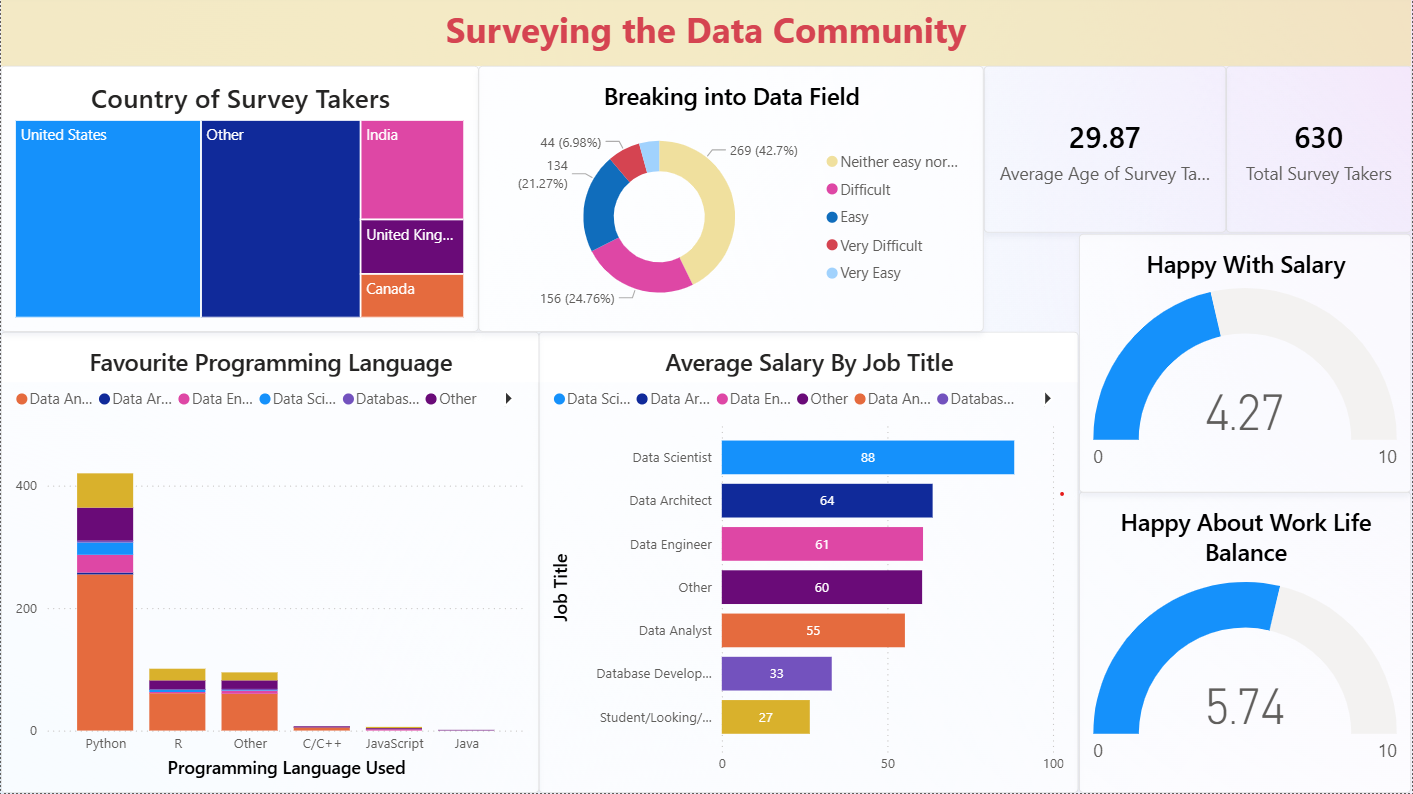

The page's visual inventory and layout, read from the dashboard file:
{"tool":"powerbi","page":{"name":"Page 1","canvas":[1280,720],"ordinal":0},"visuals":[{"type":"textbox","box":[0,0,1280,60],"z":0},{"type":"card","fields":{"Values":["Count(Data Professional Survey.Unique ID)"]},"box":[1111.4,60,168.6,151.4],"z":1000},{"type":"card","fields":{"Values":["Avg(Data Professional Survey.Age)"]},"box":[891.7,60,220,151.7],"z":2000},{"type":"barChart","title":"Average Salary By Job Title","fields":{"Category":["Data Professional Survey.Current Role"],"Y":["Avg(Data Professional Survey.Average Salary)"],"Series":["Data Professional Survey.Current Role"]},"box":[488.6,301.4,490,418.6],"z":3000},{"type":"columnChart","title":"Favourite Programming Language","fields":{"Category":["Data Professional Survey.Favourite Programming Langauge.1"],"Y":["CountNonNull(Data Professional Survey.Unique ID)"],"Series":["Data Professional Survey.Current Role"]},"box":[0,301.4,488.6,418.6],"z":4000},{"type":"treemap","title":"Country of Survey Takers","fields":{"Group":["Data Professional Survey.Country.1"],"Values":["CountNonNull(Data Professional Survey.Country.1)"]},"box":[0,60,433.3,241.7],"z":5000},{"type":"gauge","title":"Happy About Work Life Balance","fields":{"Y":["Avg(Data Professional Survey.Q6 - How Happy are you in your Current Position with the following? (Work/Life Balance))"],"MinValue":["Min(Data Professional Survey.Q6 - How Happy are you in your Current Position with the following? (Work/Life Balance))"],"MaxValue":["Max(Data Professional Survey.Q6 - How Happy are you in your Current Position with the following? (Work/Life Balance))"],"TargetValue":["Sum(Data Professional Survey.Q6 - How Happy are you in your Current Position with the following? (Work/Life Balance))"]},"box":[978.3,446.7,301.7,273.3],"z":6000},{"type":"gauge","title":"Happy With Salary","fields":{"Y":["Avg(Data Professional Survey.Q6 - How Happy are you in your Current Position with the following? (Salary))"],"MinValue":["Min(Data Professional Survey.Q6 - How Happy are you in your Current Position with the following? (Salary))"],"MaxValue":["Max(Data Professional Survey.Q6 - How Happy are you in your Current Position with the following? (Salary))1"]},"box":[978.3,211.7,301.7,235],"z":7000},{"type":"donutChart","title":"Breaking into Data Field","fields":{"Y":["CountNonNull(Data Professional Survey.Q7 - How difficult was it for you to break into Data?)"],"Category":["Data Professional Survey.Q7 - How difficult was it for you to break into Data?"]},"box":[432.9,60,458.6,241.4],"z":7001}]}

Visuals, with their boxes in screenshot pixels (x1, y1, x2, y2), scaled from the page's 1280x720 canvas onto the 1413x794 screenshot:
textbox: <box>0,0,1412,66</box>
card - Count(Data Professional Survey.Unique ID): <box>1227,66,1412,233</box>
card - Avg(Data Professional Survey.Age): <box>984,66,1227,233</box>
"Average Salary By Job Title" barChart: <box>539,332,1080,793</box>
"Favourite Programming Language" columnChart: <box>0,332,539,793</box>
"Country of Survey Takers" treemap: <box>0,66,478,333</box>
"Happy About Work Life Balance" gauge: <box>1080,493,1412,793</box>
"Happy With Salary" gauge: <box>1080,233,1412,493</box>
"Breaking into Data Field" donutChart: <box>478,66,984,332</box>
